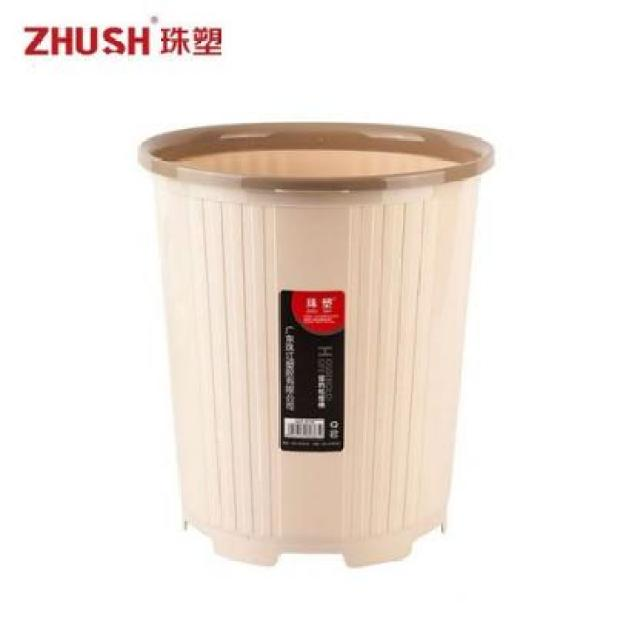dustbin: (134, 117, 498, 573)
